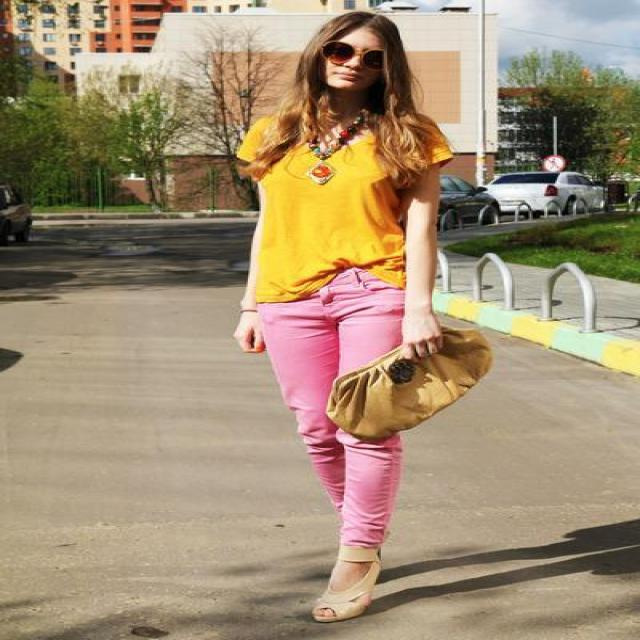bag: (314, 328, 490, 434)
pants: (266, 269, 422, 549)
shirt: (254, 133, 452, 303)
shoe: (314, 550, 402, 619)
sunglass: (326, 41, 366, 76)
